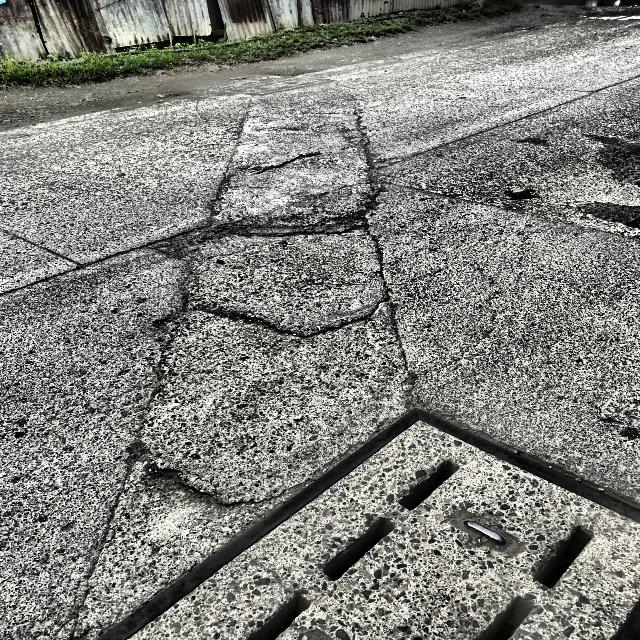major_scaling: (368, 185, 640, 504), (2, 249, 185, 640), (142, 310, 404, 504), (188, 227, 384, 336)
